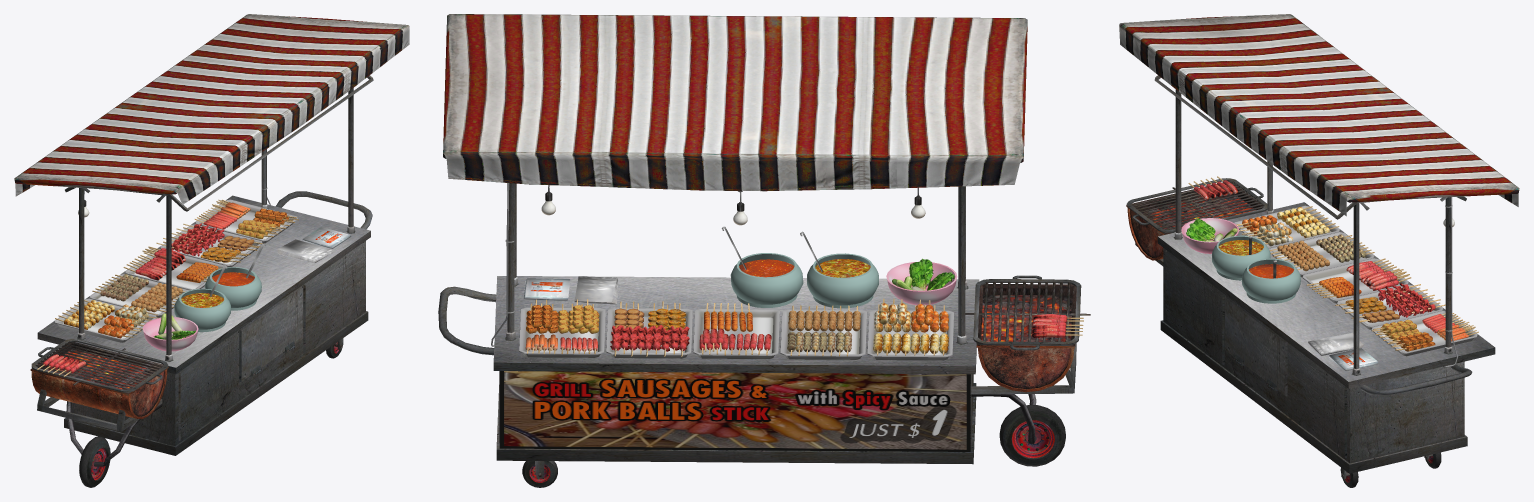
Rendered from Carrito.obj.
The picture shows the model from 3 angles, left to right: view 1: azimuth 30°, elevation 25°; view 2: azimuth 150°, elevation 25°; view 3: azimuth 270°, elevation 25°; orthographic projection. The views are drawn at different scales.
Parts seen in each view (by area): view 1: Material__362, Material__364, Material__361, Material__366, 01___Default, Material__370, Material__369, Material__368, Material__367; view 2: Material__362, Material__364, Material__361, 01___Default, Material__366, Material__370, Material__369, Material__367, Material__368, Material__371; view 3: Material__362, Material__364, Material__361, 01___Default, Material__370, Material__369, Material__368, Material__366, Material__367.
Part boxes in pixels (x1=…): Material__362: x1=14, y1=14, x2=409, y2=455; Material__364: x1=30, y1=191, x2=372, y2=487; Material__361: x1=142, y1=227, x2=351, y2=351; Material__366: x1=54, y1=298, x2=159, y2=342; 01___Default: x1=174, y1=267, x2=261, y2=332; Material__370: x1=194, y1=199, x2=298, y2=243; Material__369: x1=156, y1=223, x2=262, y2=267; Material__368: x1=123, y1=246, x2=226, y2=290; Material__367: x1=89, y1=274, x2=189, y2=317; Material__362: x1=443, y1=14, x2=1027, y2=464; Material__364: x1=438, y1=275, x2=1090, y2=487; Material__361: x1=523, y1=226, x2=957, y2=305; 01___Default: x1=730, y1=253, x2=878, y2=308; Material__366: x1=867, y1=298, x2=954, y2=360; Material__370: x1=519, y1=299, x2=605, y2=357; Material__369: x1=606, y1=301, x2=692, y2=358; Material__367: x1=780, y1=305, x2=867, y2=359; Material__368: x1=693, y1=303, x2=779, y2=358; Material__371: x1=491, y1=183, x2=925, y2=346; Material__362: x1=1119, y1=14, x2=1519, y2=473; Material__364: x1=1126, y1=176, x2=1472, y2=487; Material__361: x1=1181, y1=218, x2=1378, y2=370; 01___Default: x1=1212, y1=235, x2=1300, y2=303; Material__370: x1=1371, y1=311, x2=1478, y2=356; Material__369: x1=1335, y1=283, x2=1445, y2=329; Material__368: x1=1302, y1=258, x2=1411, y2=303; Material__366: x1=1234, y1=205, x2=1339, y2=248; Material__367: x1=1269, y1=232, x2=1374, y2=277.
Bounding box in the file's own units: 27.82 × 19.22 × 21.29.
10 materials, 10 textured.
